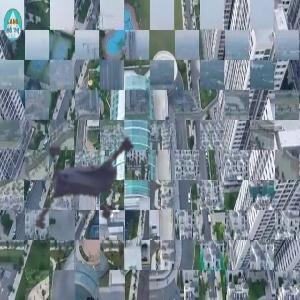drone: (22, 94, 164, 236)
